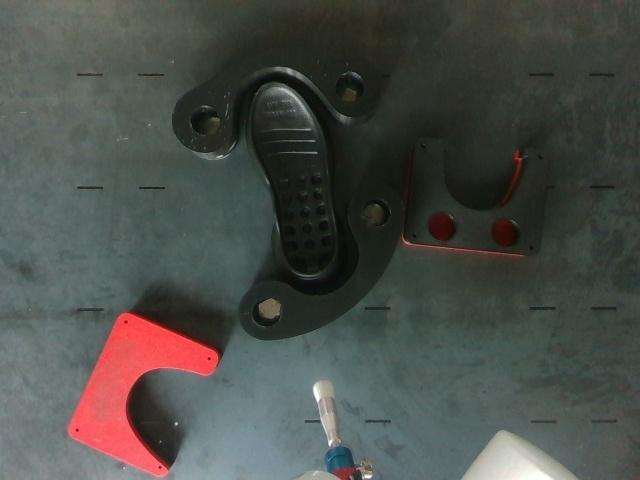shoes: (251, 86, 339, 275)
